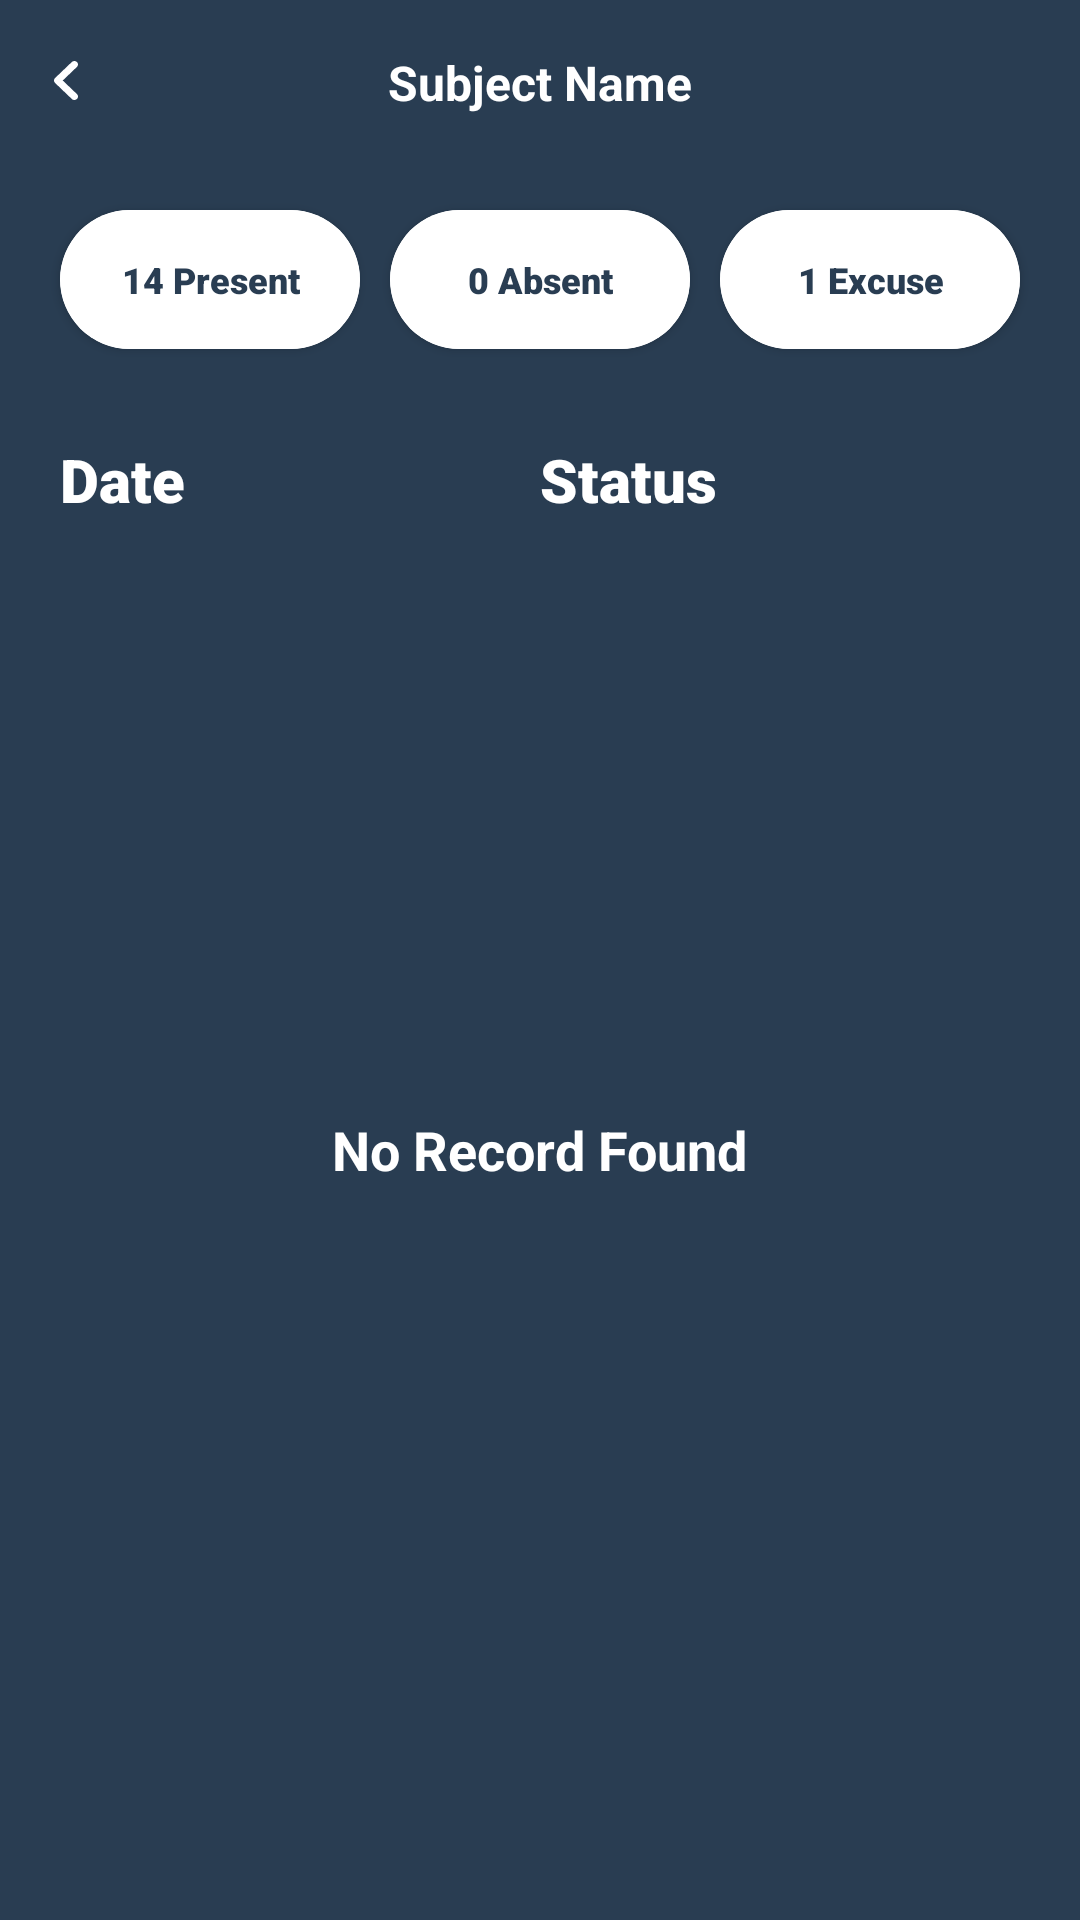

Icons on this 1080×1920 Android screen, each with the point to tap as point (x, y):
back: point (66, 80)
